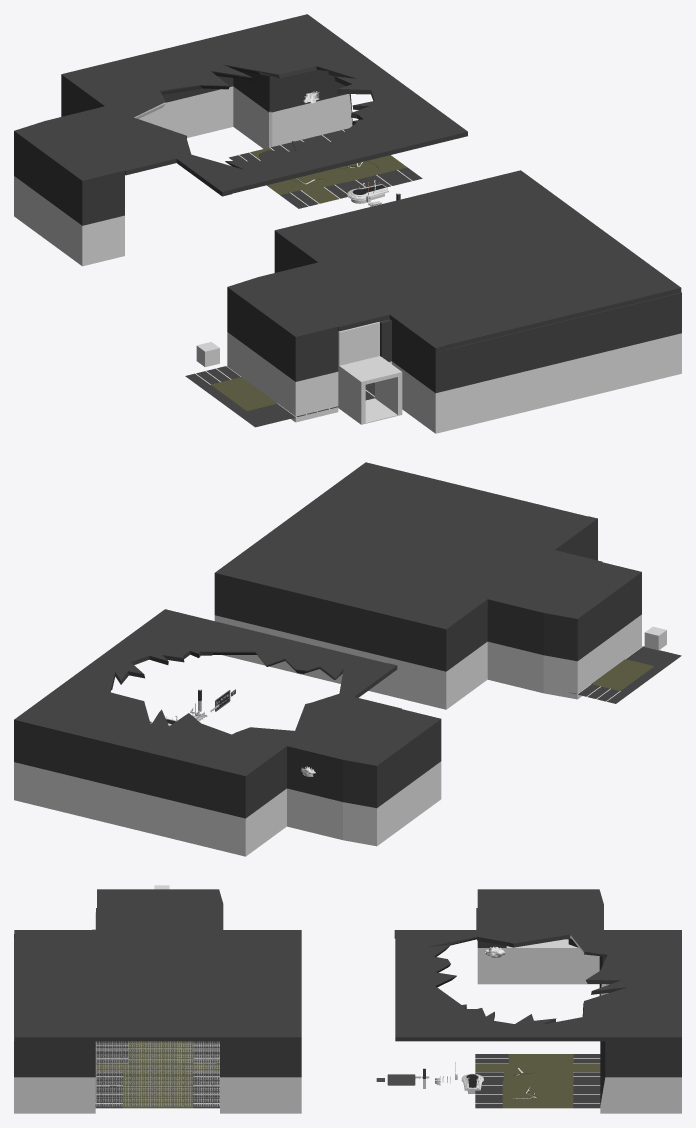
Rendered from carparkNew.fbx.
3 views of the same model, one above another, from view 1: azimuth 30°, elevation 25°; view 2: azimuth 150°, elevation 25°; view 3: azimuth 270°, elevation 25° (orthographic). The views are drawn at different scales.
Parts seen in each view (by area): view 1: Cube.029, Cube.034, Cube.027, Cube.044, Plane.001, Plane.006, Plane.007, Cube.045; view 2: Cube.029, Cube.034, Plane.001, Cube.027; view 3: Cube.029, Cube.034, Cylinder.001, Cube.027, Plane.007, Plane, Plane.006, Plane.003, Plane.004.
Part boxes in pixels (x1=…): Cube.029: x1=227, y1=170, x2=681, y2=422; Cube.034: x1=14, y1=14, x2=467, y2=266; Cube.027: x1=379, y1=292, x2=681, y2=433; Cube.044: x1=338, y1=356, x2=402, y2=424; Plane.001: x1=185, y1=366, x2=316, y2=427; Plane.006: x1=229, y1=142, x2=353, y2=208; Plane.007: x1=291, y1=128, x2=422, y2=188; Cube.045: x1=338, y1=322, x2=379, y2=365; Cube.029: x1=214, y1=462, x2=641, y2=709; Cube.034: x1=14, y1=609, x2=441, y2=856; Plane.001: x1=569, y1=646, x2=681, y2=703; Cube.027: x1=559, y1=523, x2=597, y2=560; Cube.029: x1=14, y1=889, x2=301, y2=1113; Cube.034: x1=394, y1=889, x2=681, y2=1113; Cylinder.001: x1=96, y1=1041, x2=219, y2=1106; Cube.027: x1=14, y1=929, x2=95, y2=1113; Plane.007: x1=475, y1=1081, x2=600, y2=1108; Plane: x1=95, y1=1081, x2=219, y2=1108; Plane.006: x1=475, y1=1054, x2=600, y2=1080; Plane.003: x1=96, y1=1054, x2=219, y2=1080; Plane.004: x1=96, y1=1041, x2=219, y2=1053.
Bounding box in the file's own units: 30472 × 6278 × 49635.
